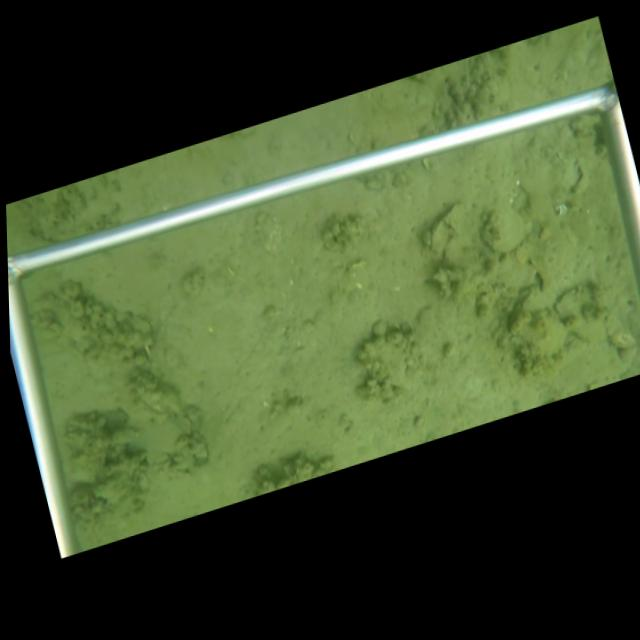Oyster-Closed: (130, 311, 159, 352)
Oyster-Indeterminate: (505, 282, 569, 365), (480, 206, 533, 253)
